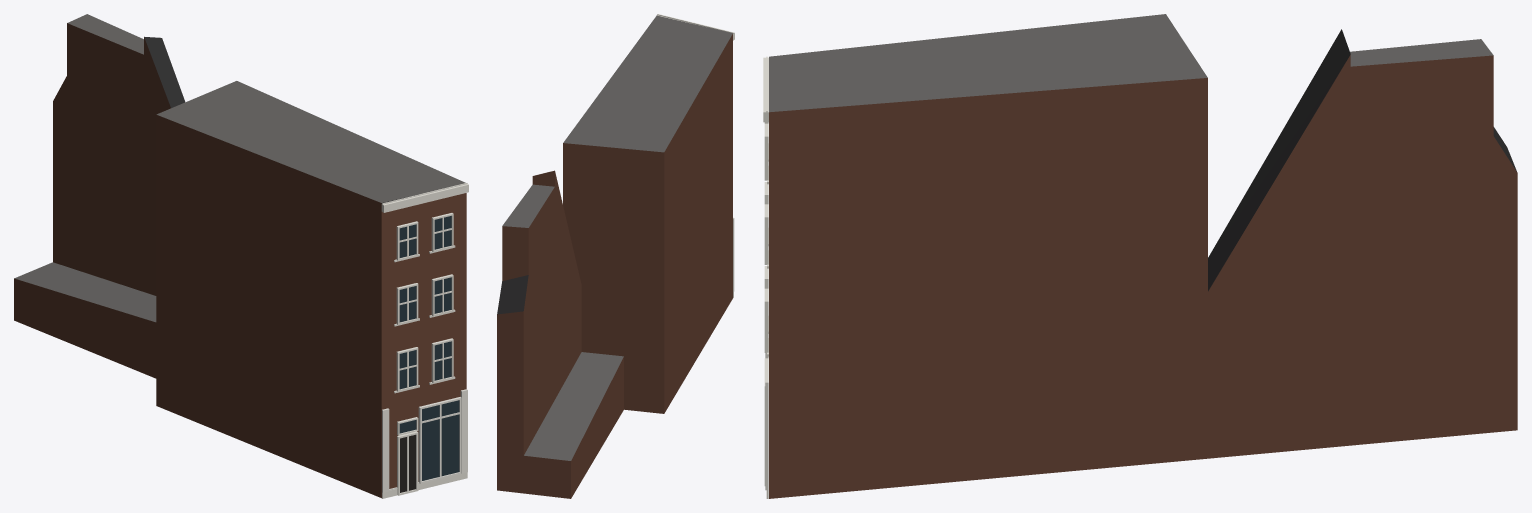
The picture shows the model from 3 angles, left to right: view 1: azimuth 30°, elevation 25°; view 2: azimuth 150°, elevation 25°; view 3: azimuth 270°, elevation 25°; orthographic projection. The views are drawn at different scales.
Parts seen in each view (by area): view 1: spec-0363100012177877; view 2: spec-0363100012177877; view 3: spec-0363100012177877.
Boxes of the visible parts, box(x1,y1,x2,y2) form: spec-0363100012177877: box(14, 14, 468, 498); spec-0363100012177877: box(497, 14, 734, 498); spec-0363100012177877: box(763, 14, 1517, 498).
Bounding box in the file's own units: 8.6 × 14.12 × 23.95.
